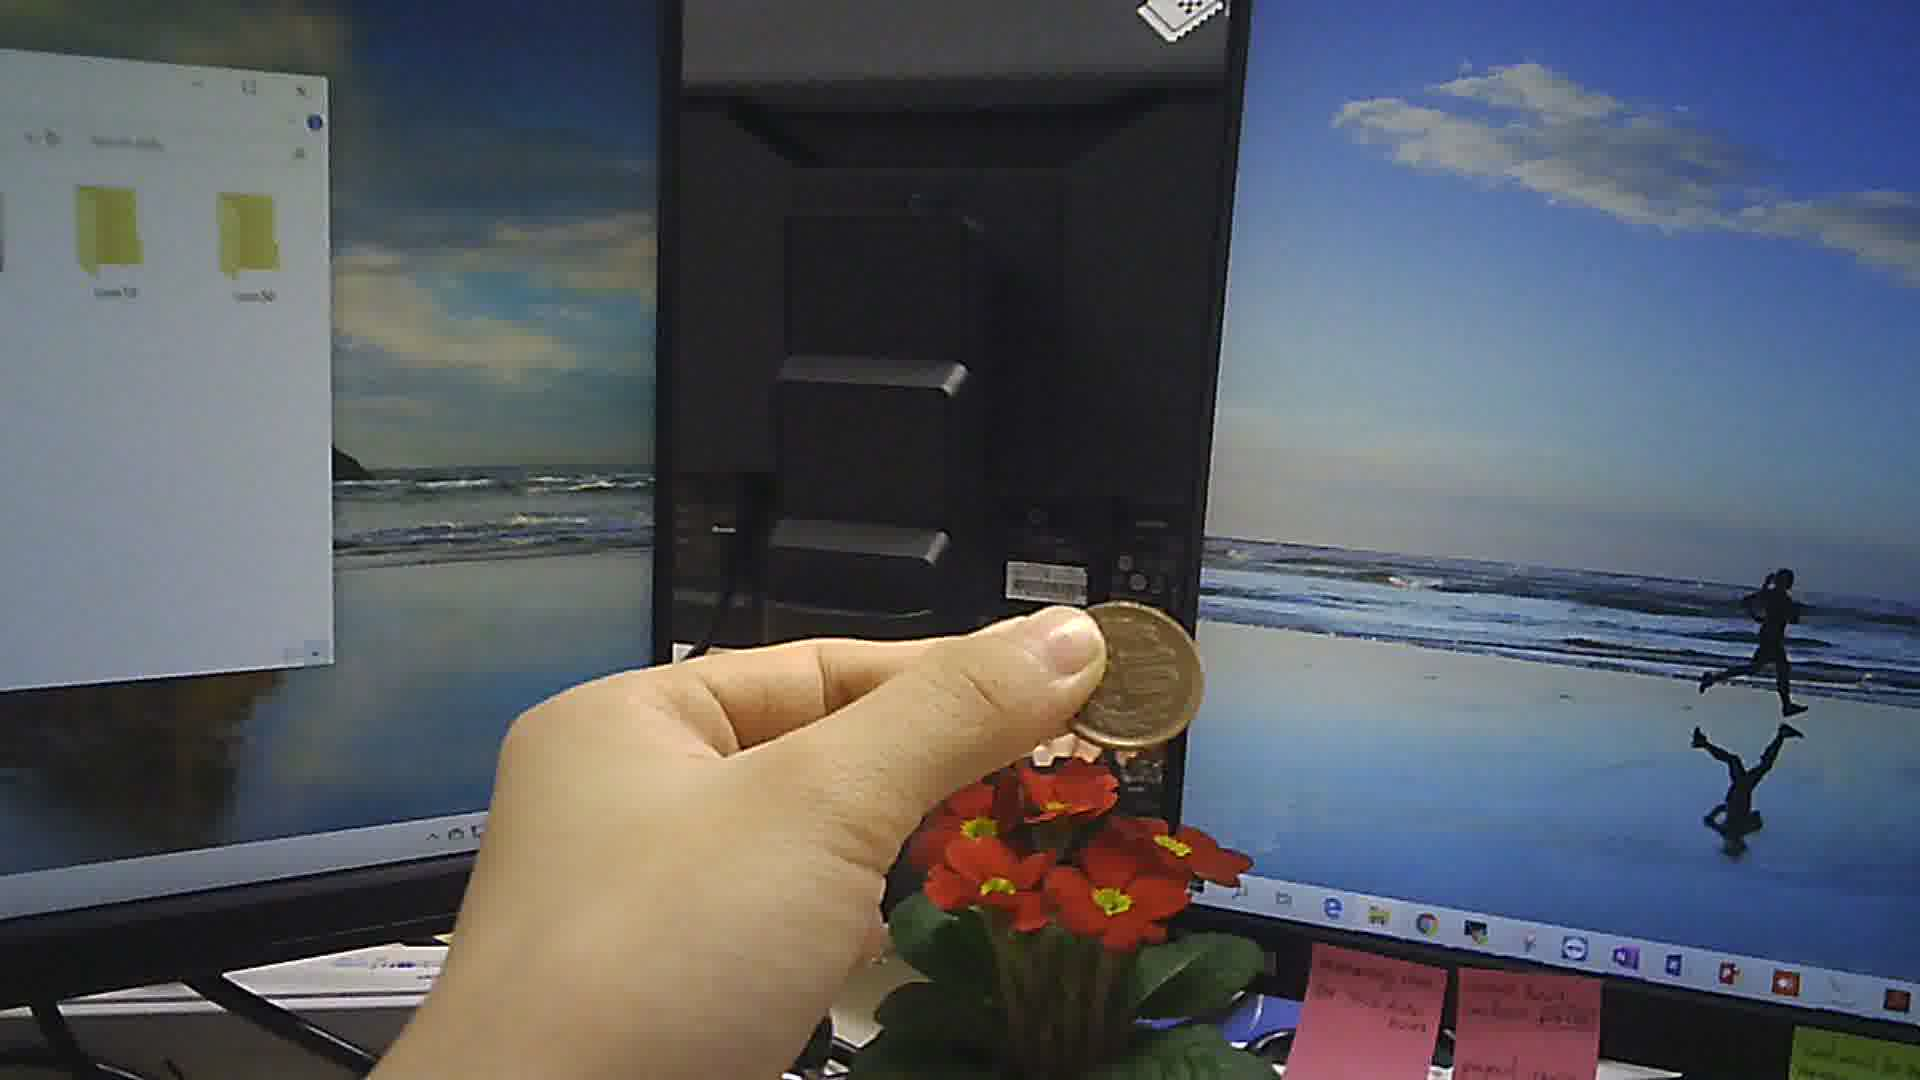10 Yen: (1056, 593, 1201, 735)
